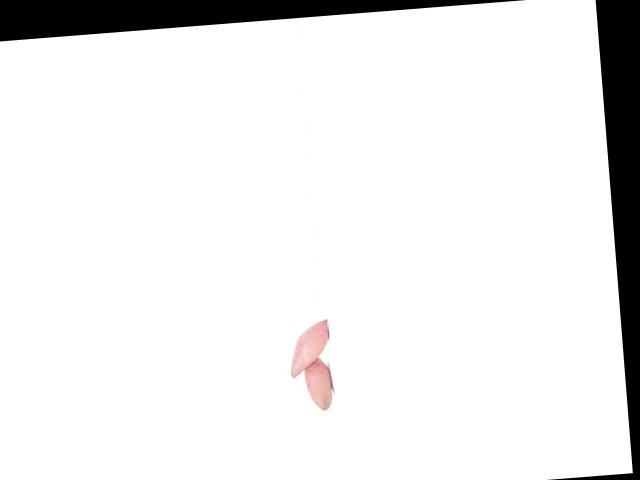sweet_potato: (299, 352, 334, 413)
